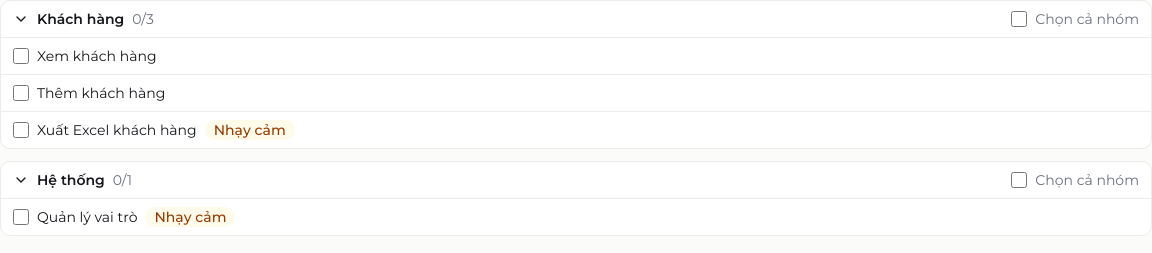
it: <PermissionMatrix> › nhóm thu gọn được
The image size is (1152, 253).
Expected: the checkbox labelled "Thêm khách hàng" is shown, left=13, top=85, right=29, bottom=101
Click the button "Khách hàng 0/3".
click(81, 19)  # box left=13, top=9, right=1003, bottom=29
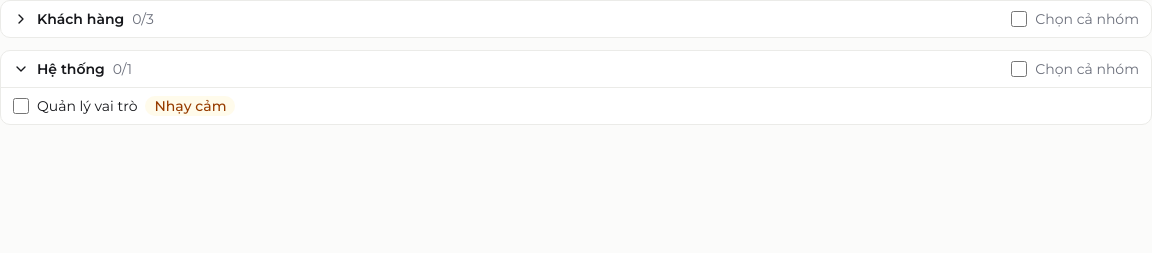
Expected: the text labelled "Thêm khách hàng" is gone
